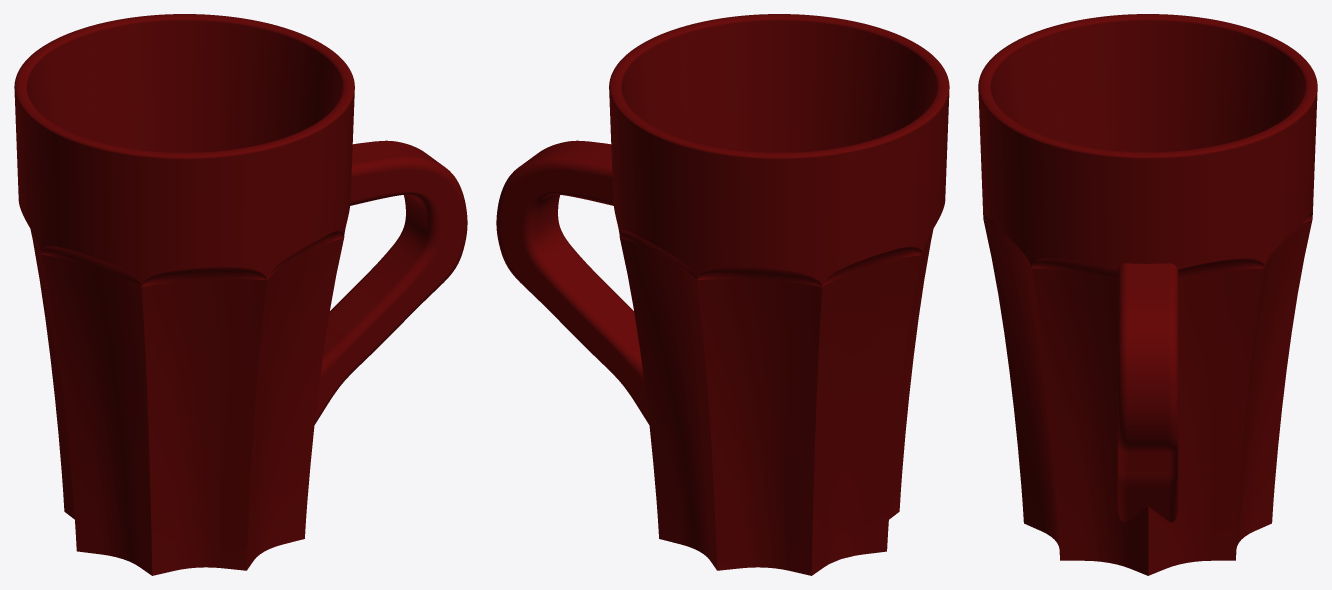
3 renders of one model, left to right at view 1: azimuth 30°, elevation 25°; view 2: azimuth 150°, elevation 25°; view 3: azimuth 270°, elevation 25°, orthographic.
Size of the model in its own units: 0.0952 by 0.0957 by 0.067.
